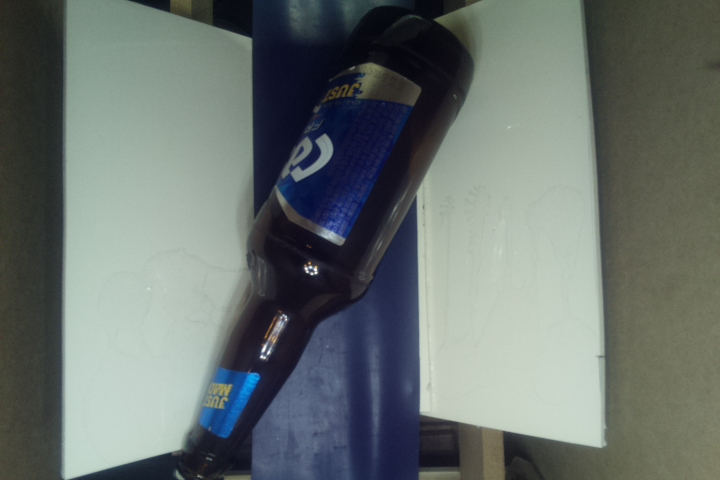makju: (175, 3, 476, 480)
